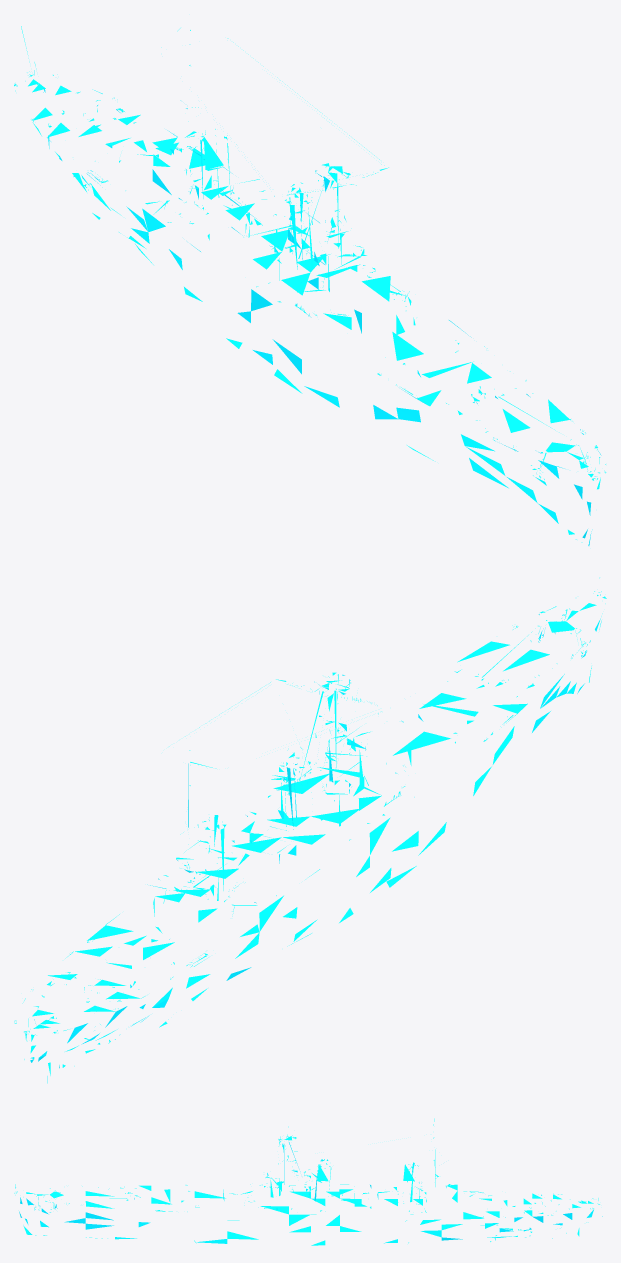
File: Toulon.glb
The picture shows the model from 3 angles, top to bottom: view 1: azimuth 30°, elevation 25°; view 2: azimuth 150°, elevation 25°; view 3: azimuth 270°, elevation 25°; orthographic projection. The views are drawn at different scales.
Size of the model in its own units: 1.83 by 3.24 by 13.76.
